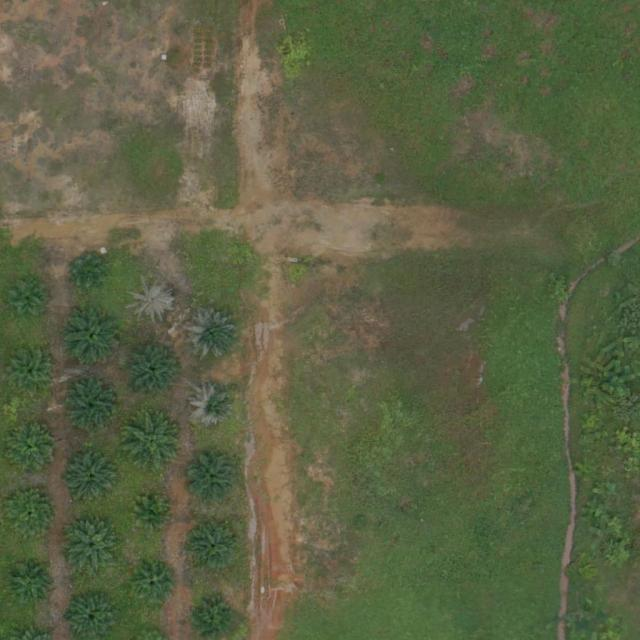Dead: (184, 308, 239, 363), (129, 277, 176, 325), (192, 383, 239, 431)
Healthy: (124, 340, 187, 403), (62, 307, 125, 369), (124, 412, 187, 474), (6, 424, 61, 479), (4, 488, 59, 543), (65, 380, 120, 435), (65, 521, 120, 576), (186, 452, 241, 507), (186, 521, 241, 576), (65, 453, 119, 508)
Small: (4, 555, 59, 610), (7, 352, 54, 399), (132, 562, 179, 609), (8, 277, 48, 316), (133, 496, 173, 535), (69, 252, 108, 291)
